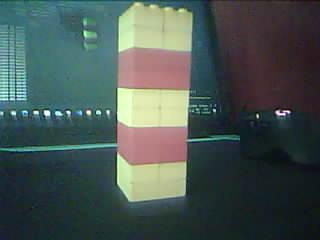lego: (117, 3, 193, 202)
